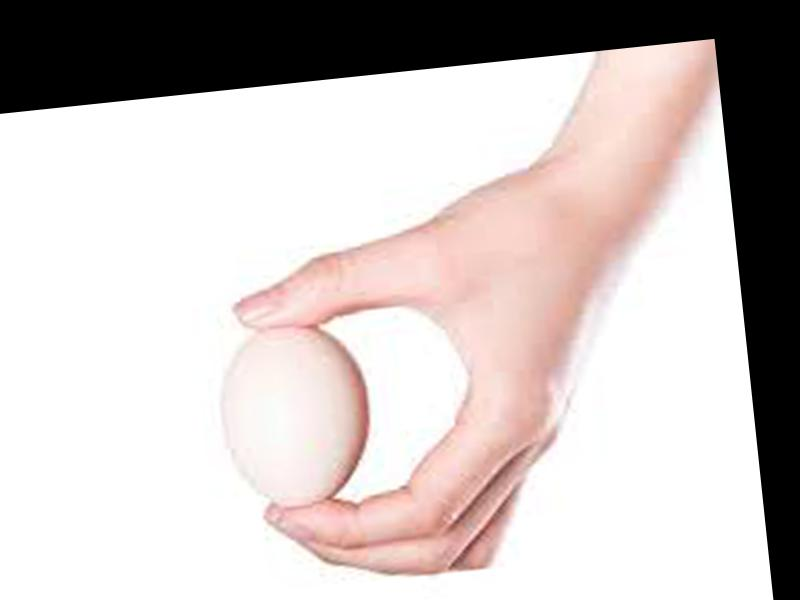Eggs: (212, 316, 378, 515)
